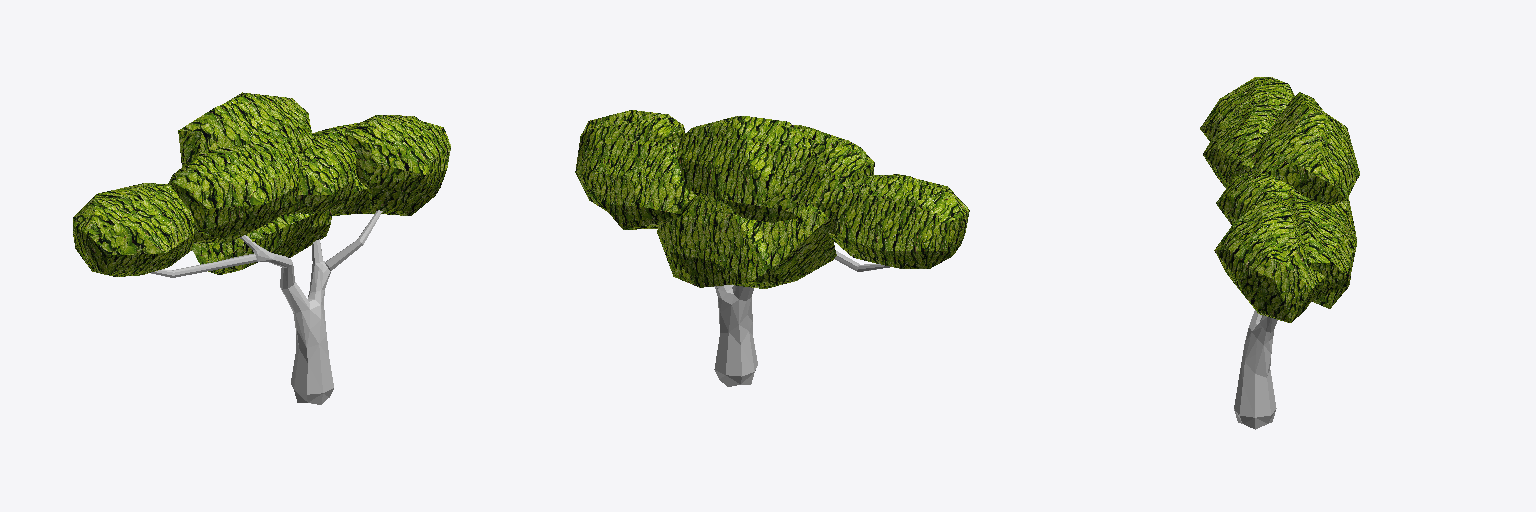
The picture shows the model from 3 angles: view 1: azimuth 30°, elevation 25°; view 2: azimuth 150°, elevation 25°; view 3: azimuth 270°, elevation 25°; orthographic projection.
Parts seen in each view (by area): view 1: Tree2.1_Cube.001; view 2: Tree2.1_Cube.001; view 3: Tree2.1_Cube.001.
Boxes of the visible parts, x1,y1,x2,y2 form: Tree2.1_Cube.001: [73, 92, 450, 404]; Tree2.1_Cube.001: [575, 110, 969, 386]; Tree2.1_Cube.001: [1200, 77, 1359, 429].
Bounding box in the file's own units: 8.84 × 6.69 × 3.26.
2 materials, 1 textured.